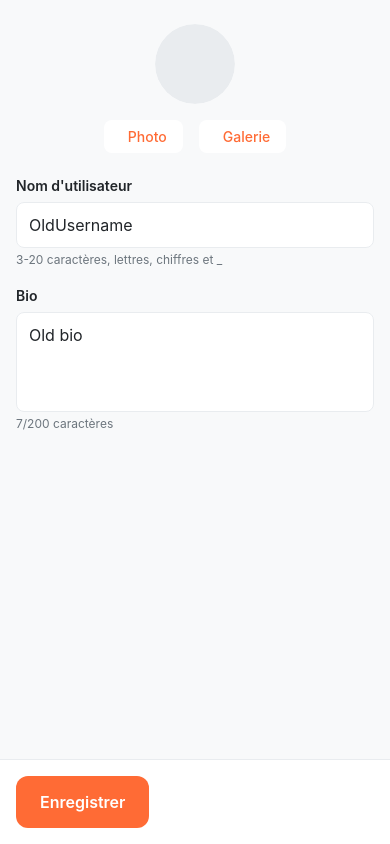
Test: EditProfileScreen › shows validation error for username with invalid characters
The width and height of the screenshot is (390, 844).
Step 1. Replace the text in the field with test id "username-input" with "user@name!" → (195,225), box [16, 202, 374, 248]
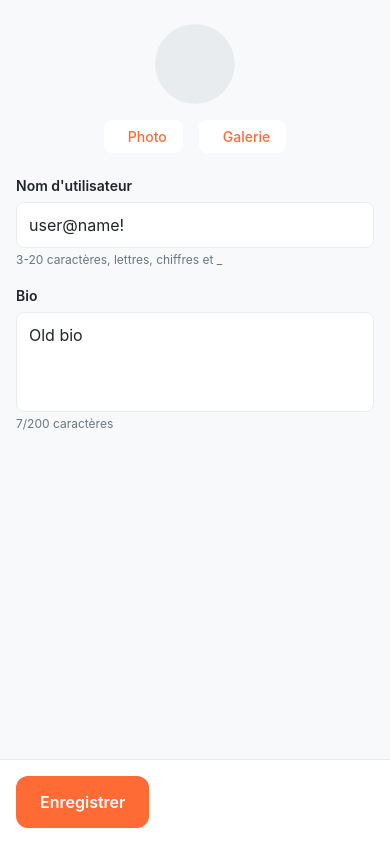
Step 2. Click the element with test id "save-button" → (83,802), box [16, 776, 149, 828]
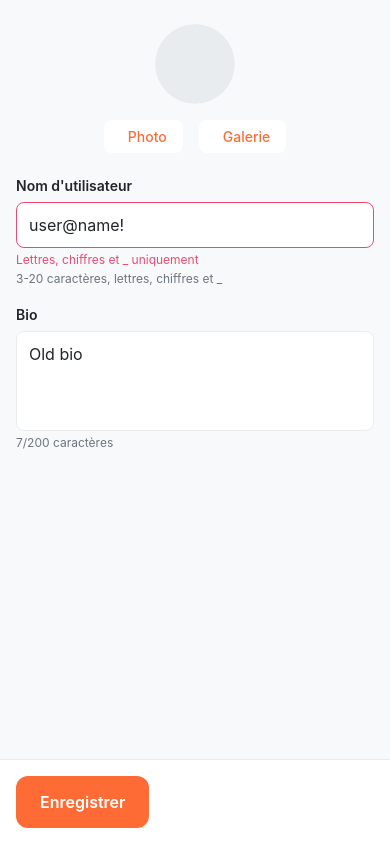
Check: the text "Lettres, chiffres et _ uniquement" is shown, box [16, 252, 199, 267]
